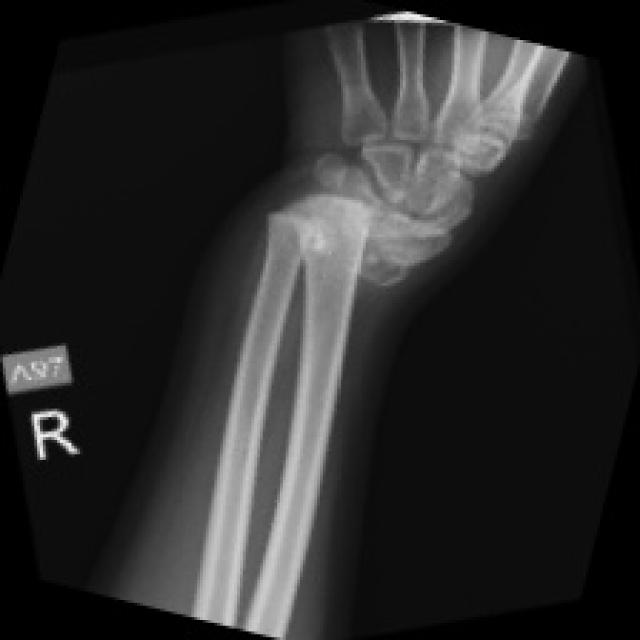fracture: (252, 115, 467, 315)
